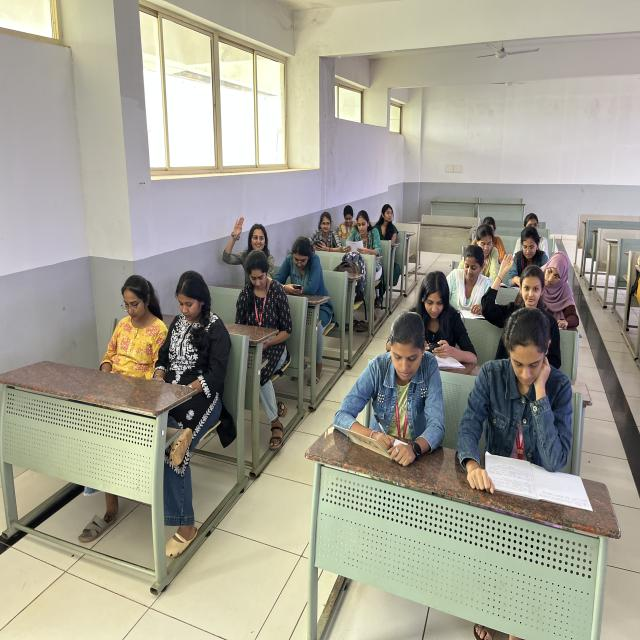Hand Rising: (482, 247, 559, 337), (221, 211, 277, 269)
Reading: (458, 310, 584, 495), (343, 210, 384, 262)
Using Phone: (158, 266, 234, 407), (98, 266, 165, 390), (408, 266, 479, 374), (230, 245, 290, 335), (273, 236, 329, 304), (306, 210, 345, 258)
Writing: (333, 303, 458, 466), (438, 243, 498, 321), (532, 248, 587, 330)
